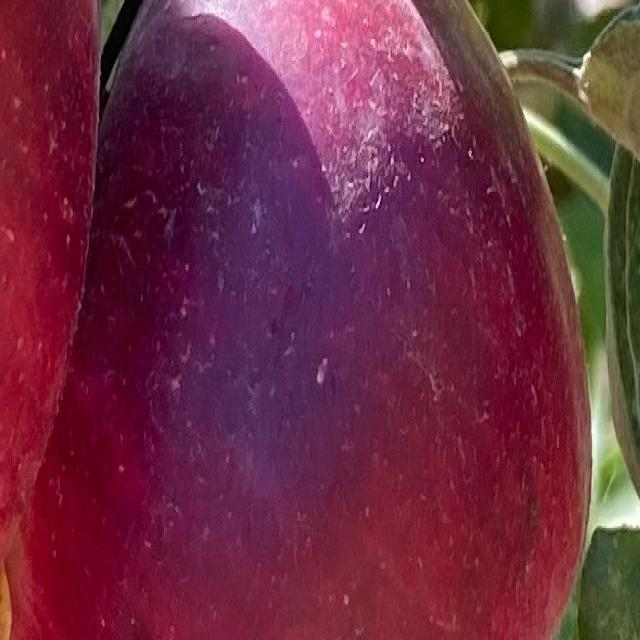Apples: (7, 0, 593, 638), (0, 0, 99, 571)
